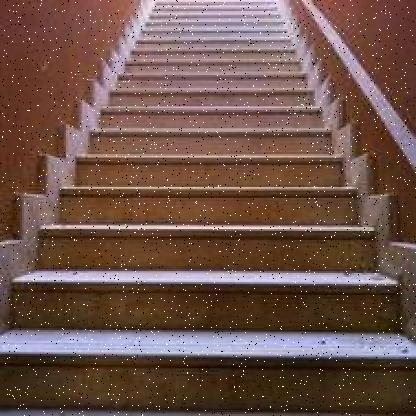stair_up: (19, 168, 392, 330)
